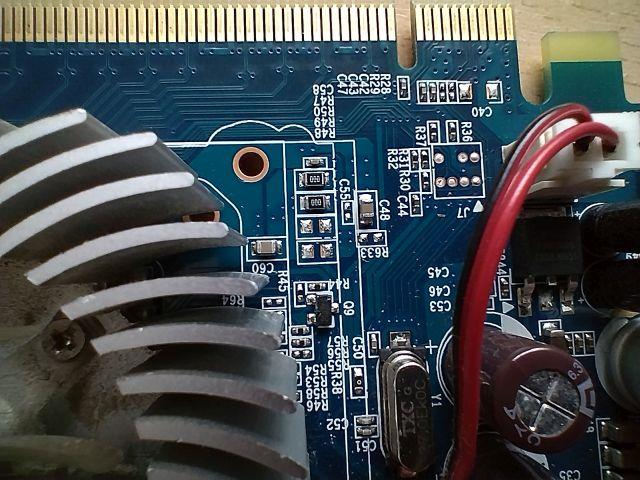capacitor: (248, 232, 286, 264), (354, 192, 379, 221), (354, 426, 380, 439), (352, 414, 380, 426)
resistor: (445, 115, 474, 143), (303, 173, 333, 191), (307, 194, 332, 211), (422, 120, 439, 145), (283, 351, 316, 362), (419, 173, 434, 194), (288, 336, 314, 347), (406, 148, 420, 168), (421, 144, 430, 168), (292, 328, 318, 335)
